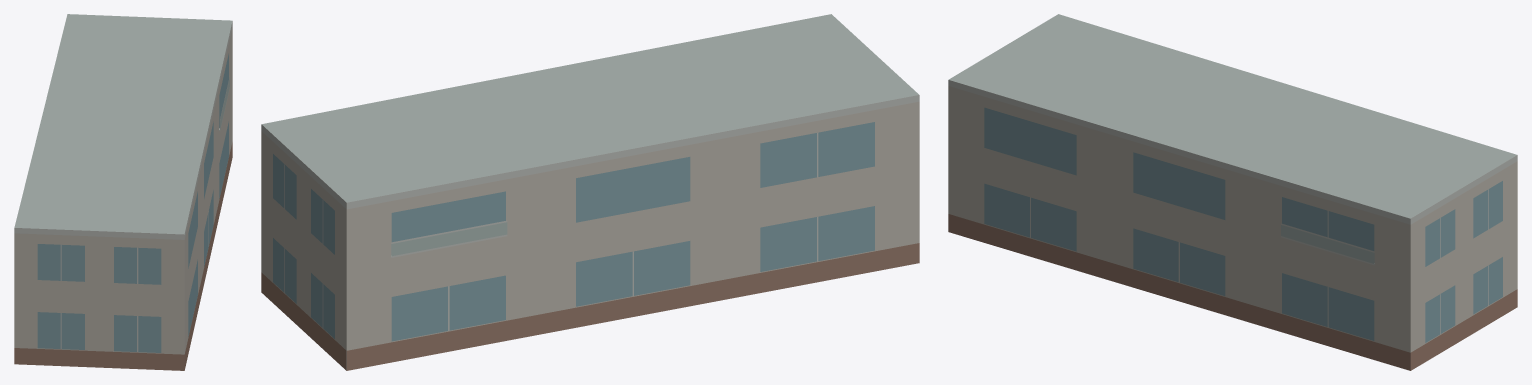
The model's file is survey-upis-32721885.glb.
3 views of the same model, side by side, from view 1: azimuth 30°, elevation 25°; view 2: azimuth 150°, elevation 25°; view 3: azimuth 270°, elevation 25° (orthographic). The views are drawn at different scales.
Parts seen in each view (by area): view 1: survey-upis-32721885.tmp; view 2: survey-upis-32721885.tmp; view 3: survey-upis-32721885.tmp.
Boxes of the visible parts, box(x1,y1,x2,y2) form: survey-upis-32721885.tmp: box(14, 14, 232, 370); survey-upis-32721885.tmp: box(261, 14, 919, 370); survey-upis-32721885.tmp: box(948, 14, 1517, 370).
Size of the model in its own units: 17.61 by 6.1 by 20.69.
